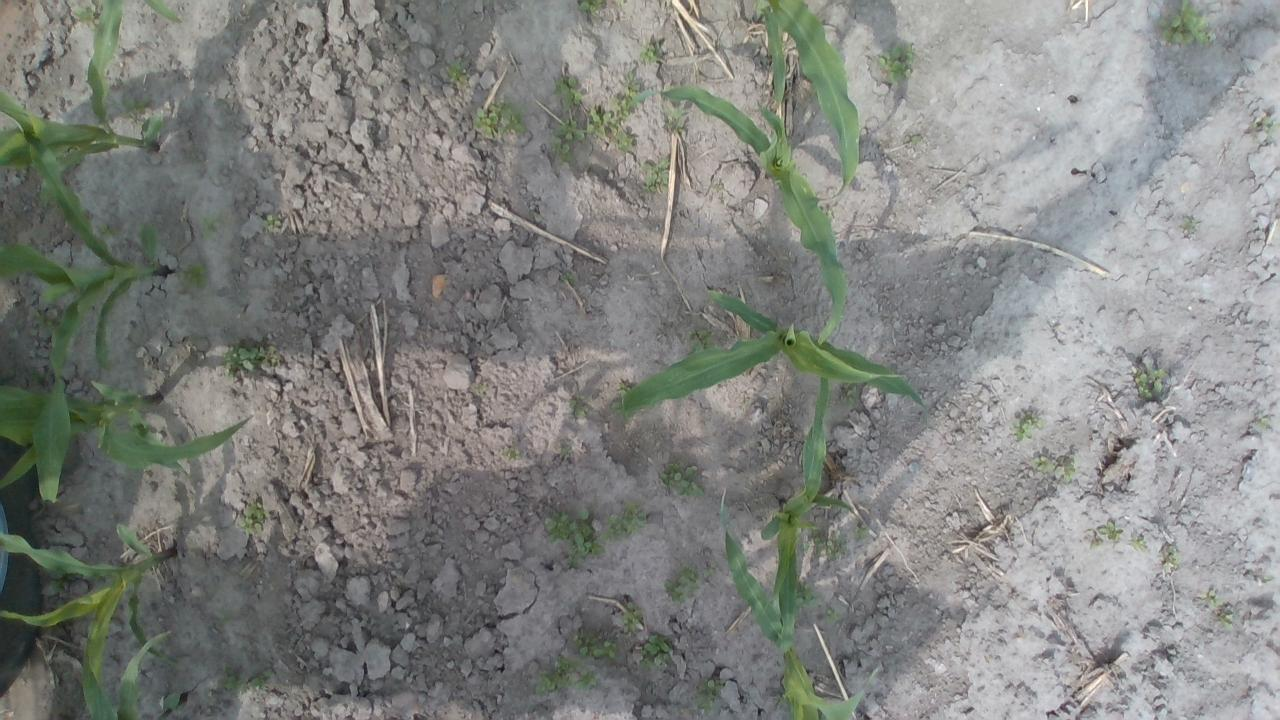Maize: (0, 102, 167, 502), (624, 84, 850, 346), (620, 291, 924, 416), (716, 493, 882, 720), (0, 0, 166, 199), (758, 376, 856, 656), (0, 376, 253, 484), (0, 522, 180, 666), (754, 0, 860, 199), (78, 583, 186, 720), (136, 0, 184, 28)
Weeds: (544, 509, 610, 568), (534, 656, 597, 698), (1158, 0, 1211, 47), (223, 338, 277, 382), (587, 104, 634, 154), (472, 98, 528, 138), (604, 503, 650, 545), (660, 462, 705, 498), (611, 66, 645, 112), (879, 40, 916, 82), (574, 626, 618, 660), (552, 118, 584, 162), (662, 566, 698, 604), (638, 631, 674, 668), (550, 76, 584, 115), (638, 156, 672, 194), (1031, 454, 1075, 481), (1134, 367, 1170, 400), (178, 255, 211, 290), (697, 676, 727, 714), (810, 533, 850, 561), (240, 502, 272, 536), (120, 92, 150, 121), (1012, 414, 1043, 442), (220, 661, 244, 697), (686, 326, 714, 352), (201, 209, 225, 239), (1160, 542, 1182, 574), (622, 606, 644, 634), (446, 60, 470, 85), (568, 393, 590, 419), (1251, 116, 1279, 136), (795, 583, 817, 608), (1096, 521, 1122, 542), (640, 42, 664, 64), (71, 4, 96, 25), (612, 401, 635, 423), (574, 0, 605, 16), (248, 670, 272, 690), (661, 112, 684, 132), (262, 212, 282, 232), (845, 380, 858, 409), (1205, 589, 1224, 608), (1252, 415, 1270, 433), (94, 222, 112, 240), (1183, 214, 1200, 232), (616, 382, 636, 397), (501, 446, 521, 461), (824, 608, 840, 624), (558, 270, 576, 284), (1218, 612, 1234, 627), (771, 691, 786, 705), (703, 566, 718, 576), (1132, 539, 1145, 550), (559, 446, 570, 456), (910, 134, 920, 144)
